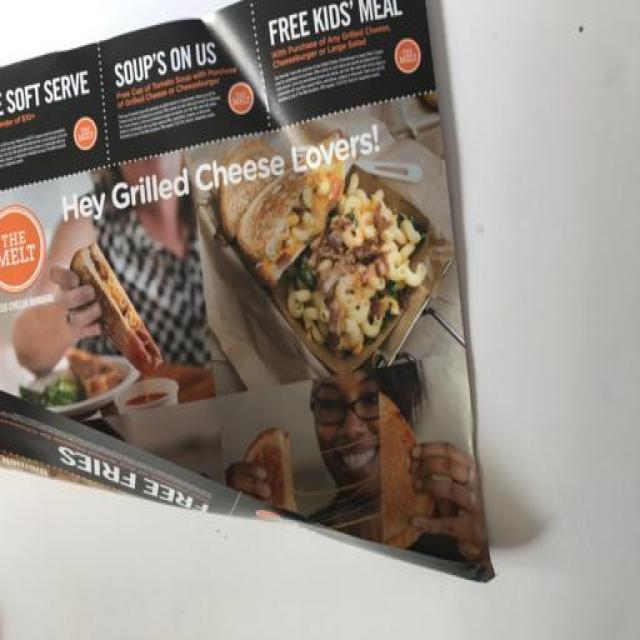paper: (1, 2, 513, 619)
